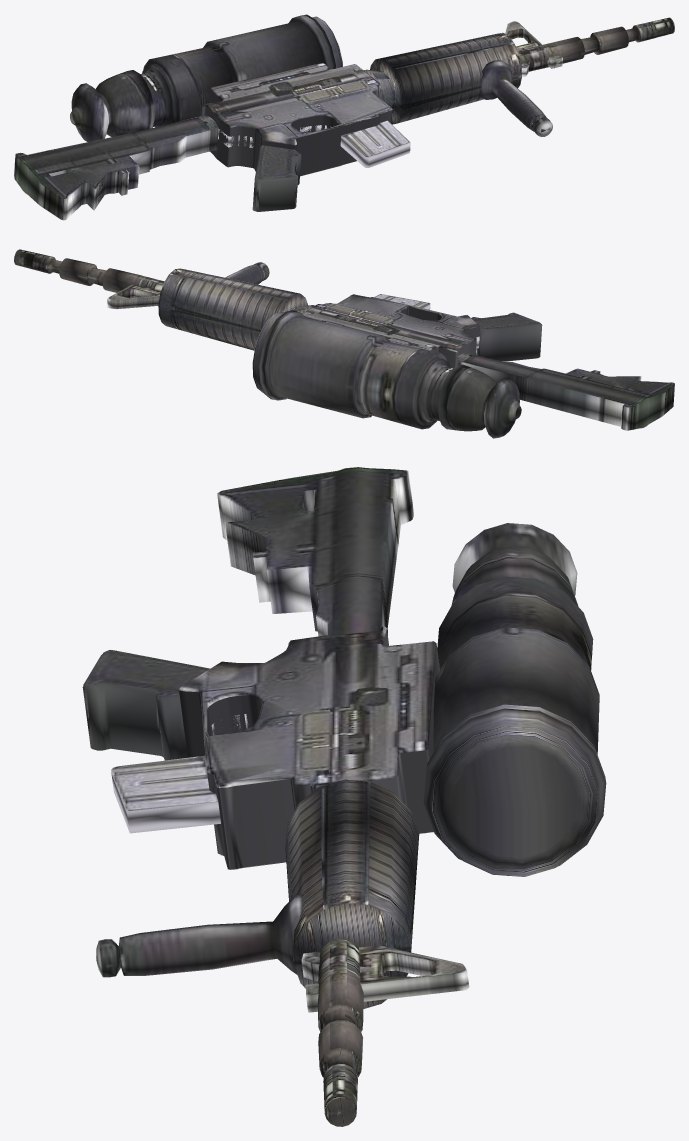
Rendered from M4a1an Pws4.obj.
3 views of the same model, one above another, from view 1: azimuth 30°, elevation 25°; view 2: azimuth 150°, elevation 25°; view 3: azimuth 270°, elevation 25° (orthographic). The views are drawn at different scales.
Parts seen in each view (by area): view 1: Line04; view 2: Line04; view 3: Line04.
Part boxes in pixels (left/top/right/bottom): Line04: left=14, top=14, right=674, bottom=220; Line04: left=14, top=249, right=674, bottom=438; Line04: left=82, top=467, right=606, bottom=1126.
Size of the model in its own units: 598 by 74.74 by 214.
5 materials, 5 textured.
